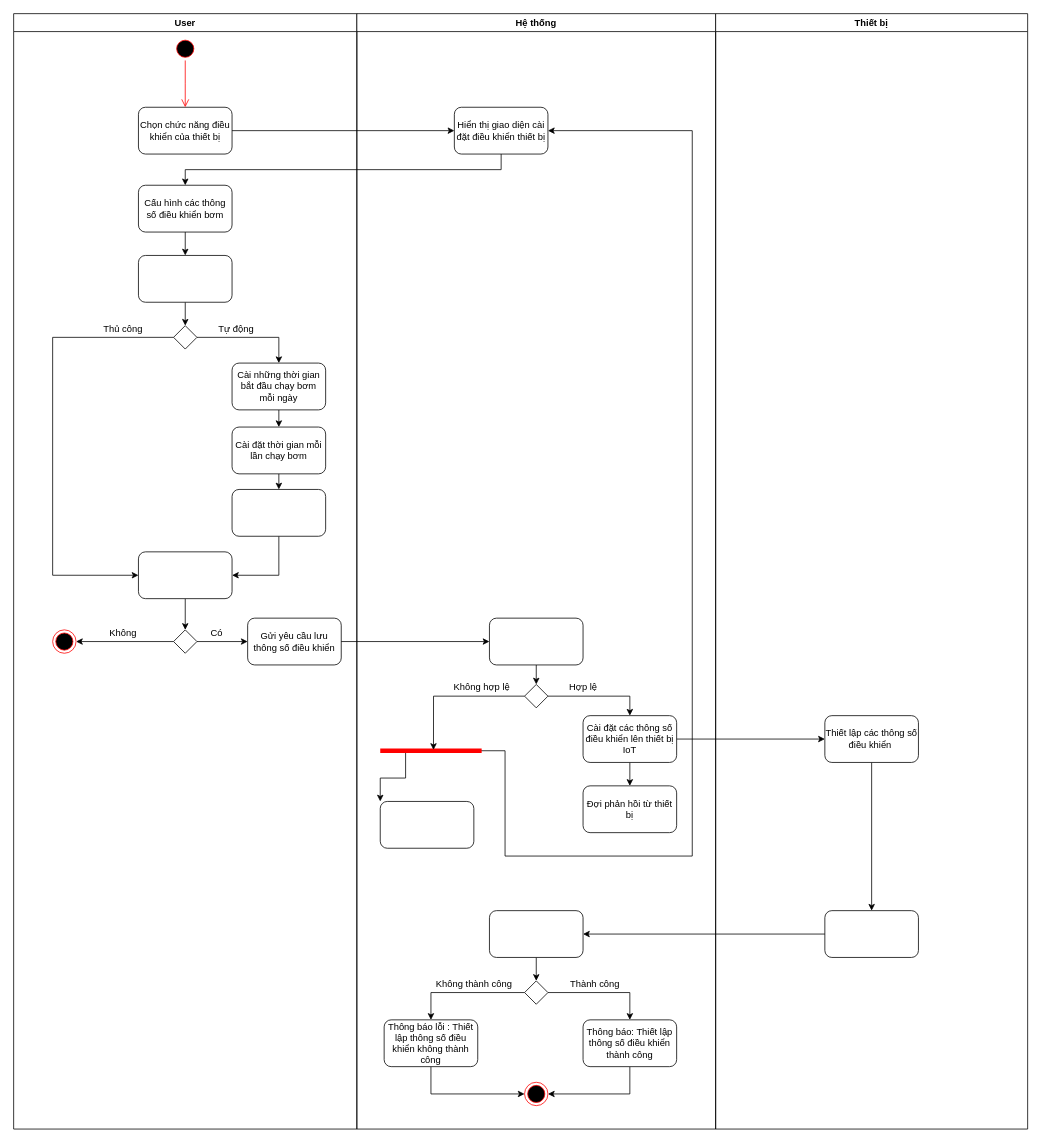
The diagram is 1041 pixels wide and 1143 high, and some of its shapes have lost their labels. Here are the shapes that lost their labels. From the top down, the box of each, then its label:
(138, 255, 232, 302): Chọn cách khởi động bơm
(231, 489, 326, 536): Khóa nút điều khiển vật lý trên bơm
(138, 551, 232, 599): Lưu cài đặt điều khiển thiết bị
(489, 617, 583, 665): Kiểm tra tính hợp lệ của các thông tin điểu khiển
(379, 801, 474, 848): Thông báo lỗi thông tin điều khiển không hợp lệ
(489, 910, 583, 957): Kiểm tra thông báo trạng thái thiết lập
(824, 910, 918, 957): Gửi thông báo trạng thái thiết lập thông số điều khiển
